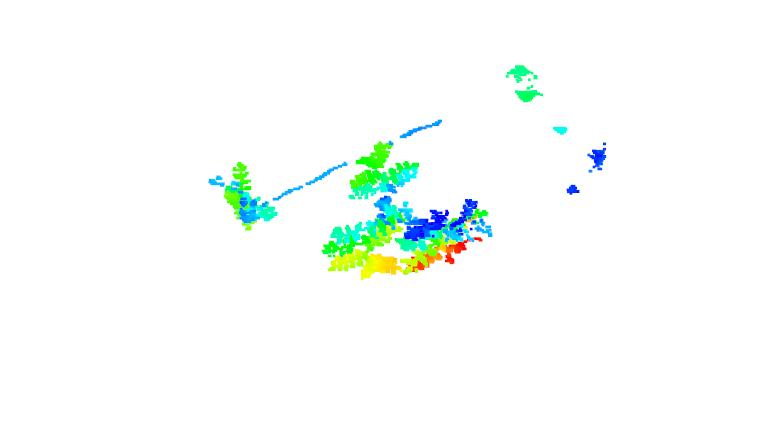chickpea: (411, 210, 502, 277), (319, 223, 402, 285), (347, 144, 426, 207), (212, 159, 277, 229)
